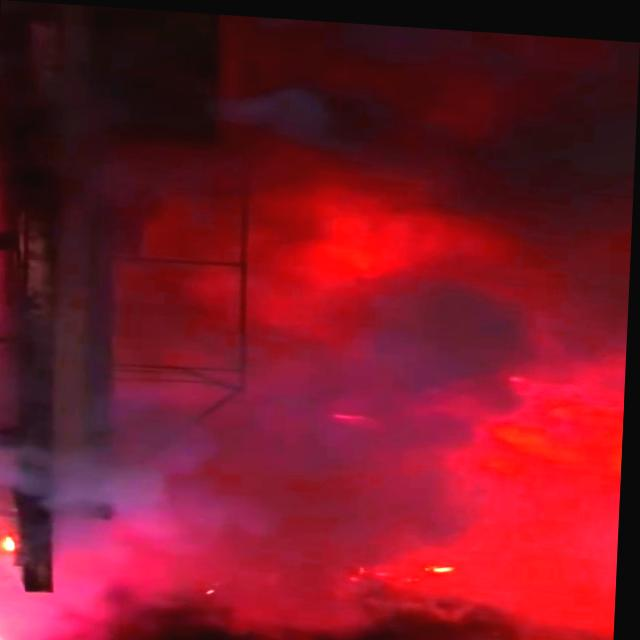smoke: (252, 14, 640, 640)
